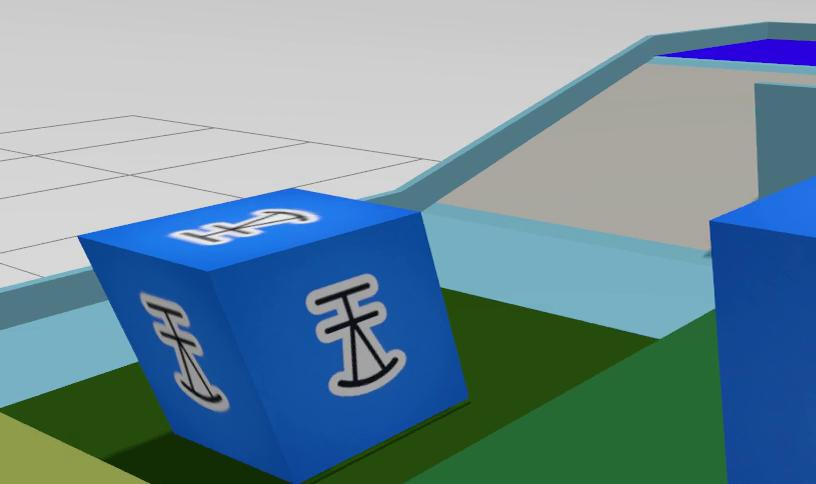KFS_REAL: (81, 188, 467, 482), (712, 176, 816, 484), (307, 275, 405, 395), (141, 293, 229, 411), (169, 209, 319, 245)
